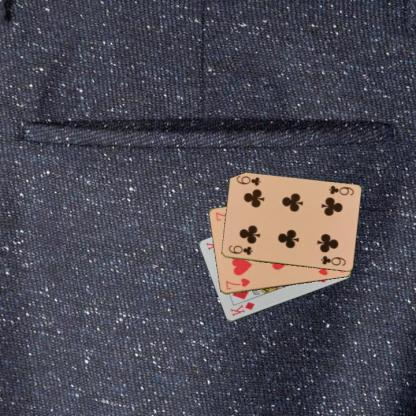6c: (226, 242, 254, 257), (326, 183, 355, 197)
7h: (223, 276, 251, 290)
Kd: (228, 299, 256, 318)
